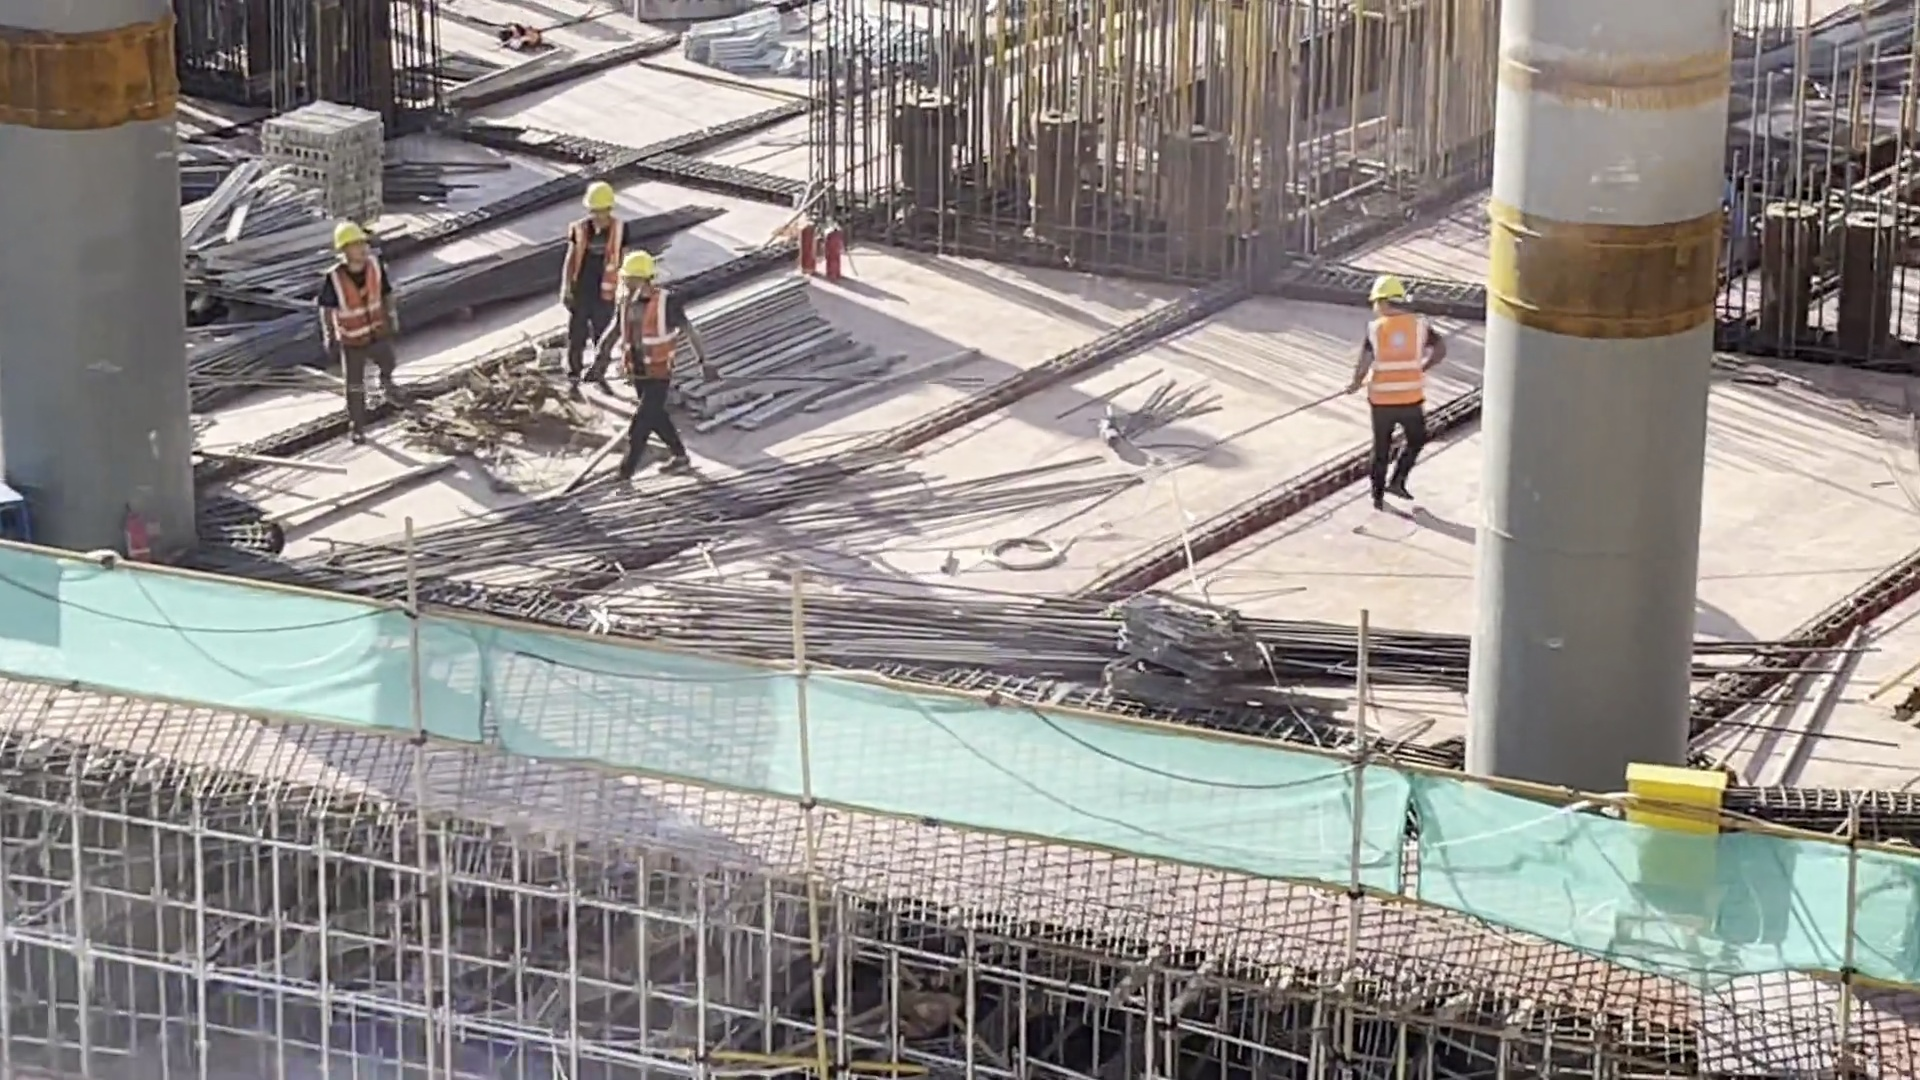helmet: (331, 211, 372, 252), (1365, 272, 1408, 305), (581, 176, 618, 213), (615, 253, 656, 282)
person: (312, 198, 399, 438), (601, 248, 684, 480), (1358, 260, 1438, 498), (563, 168, 626, 356)
vest: (1365, 318, 1433, 409), (619, 297, 682, 382), (324, 264, 383, 335), (560, 223, 620, 287)
